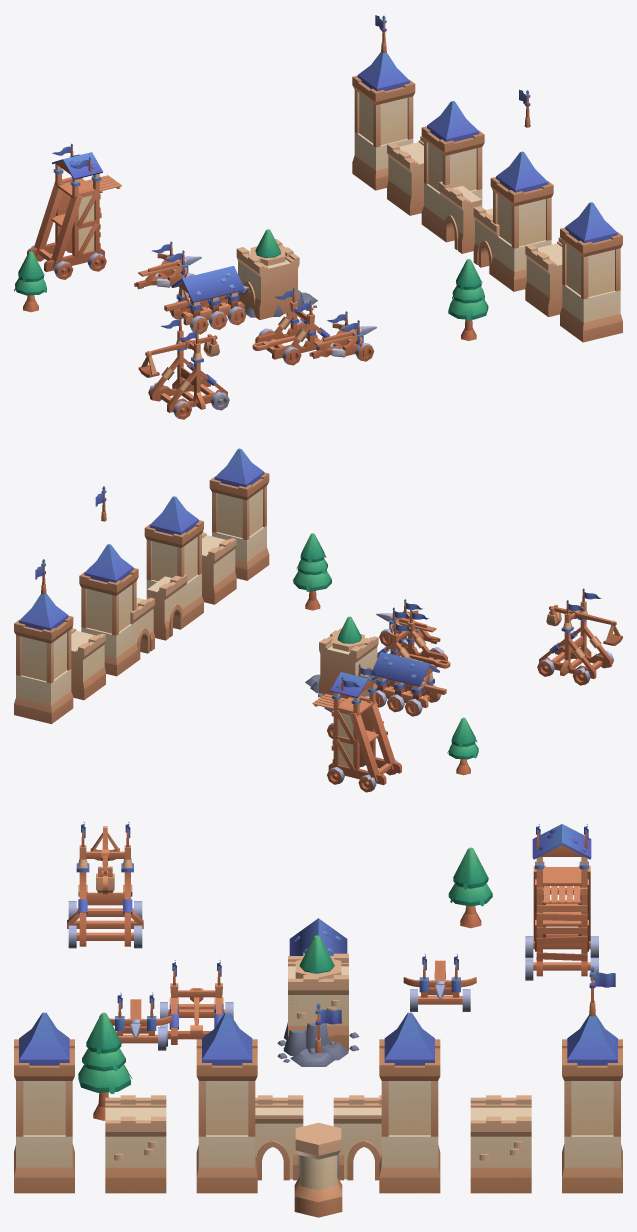
File: paired-animation.glb
3 renders of one model, top to bottom at view 1: azimuth 30°, elevation 25°; view 2: azimuth 150°, elevation 25°; view 3: azimuth 270°, elevation 25°, orthographic. The views are drawn at different scales.
Visible parts, largest first — view 1: siege-tower, siege-trebuchet, siege-ram, tw3_b, tw0_m, ws2, tw3_m, ws1, tw2_m, wall, tw1_m, wd1 (+14 smaller); view 2: siege-tower, siege-trebuchet, tw0_b, siege-ram, tw0_m, tw3_m, ws1, ws2, tw1_m, tw2_m, wd2, tw3_r (+13 smaller); view 3: siege-tower, ws2, ws1, hex1, siege-trebuchet, wall, tw1_b, tw2_b, tw0_b, tw3_b, tw1_r, tw2_r (+19 smaller).
Part boxes in pixels (box(x1,y1,x2,y2)): siege-tower: box(27, 143, 121, 271); siege-trebuchet: box(150, 317, 227, 412); siege-ram: box(171, 266, 244, 325); tw3_b: box(560, 284, 622, 342); tw0_m: box(354, 90, 413, 147); ws2: box(525, 237, 562, 317); tw3_m: box(562, 242, 620, 299); ws1: box(387, 136, 423, 215); tw2_m: box(493, 191, 551, 248); wall: box(237, 239, 299, 319); tw1_m: box(424, 140, 482, 191); wd1: box(439, 181, 481, 253); siege-tower: box(312, 664, 401, 785); siege-trebuchet: box(539, 588, 612, 678); tw0_b: box(14, 669, 73, 723); siege-ram: box(371, 652, 439, 707); tw0_m: box(16, 629, 71, 683); tw3_m: box(212, 486, 266, 539); ws1: box(71, 626, 105, 700); ws2: box(202, 531, 236, 604); tw1_m: box(81, 581, 136, 635); tw2_m: box(146, 533, 201, 581); wd2: box(147, 574, 187, 640); tw3_r: box(209, 448, 269, 500); siege-tower: box(532, 824, 591, 976); ws2: box(105, 1095, 166, 1193); ws1: box(470, 1095, 531, 1193); hex1: box(294, 1122, 342, 1217); siege-trebuchet: box(67, 821, 143, 946); wall: box(288, 953, 348, 1051); tw1_b: box(379, 1135, 440, 1193); tw2_b: box(196, 1135, 257, 1193); tw0_b: box(562, 1135, 622, 1193); tw3_b: box(14, 1135, 74, 1193); tw1_r: box(379, 1012, 440, 1080); tw2_r: box(196, 1012, 257, 1080).
Size of what is drawn, in the model's own units: 12.07 by 4.01 by 10.
Materials: 17 (17 with a texture image).
